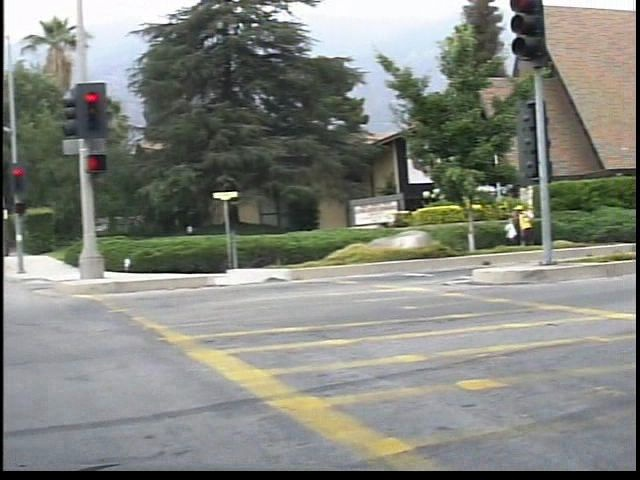person: (524, 194, 547, 249)
